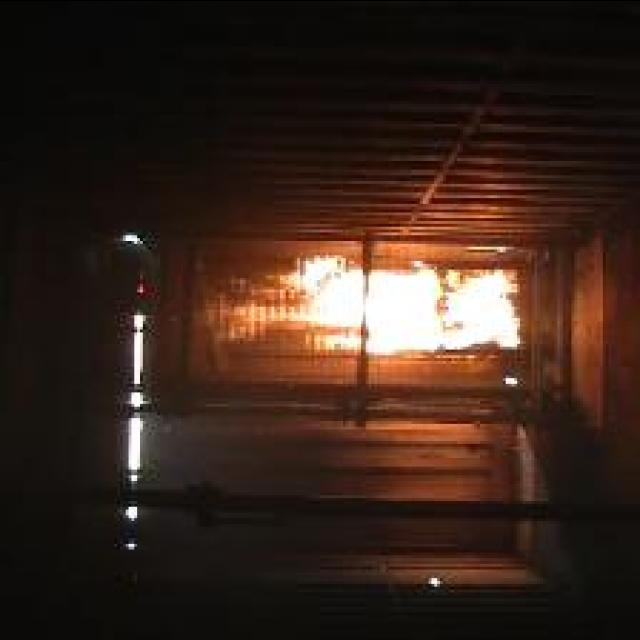Fire: (204, 254, 522, 354)
